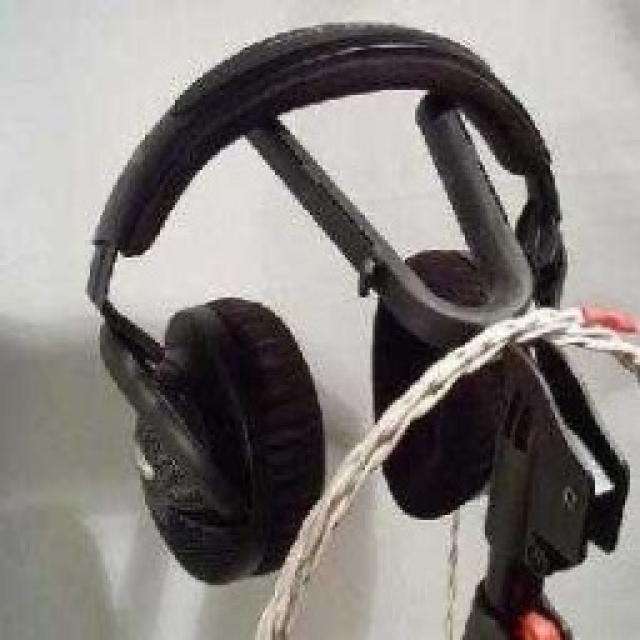kulaklik: (72, 2, 574, 597)
